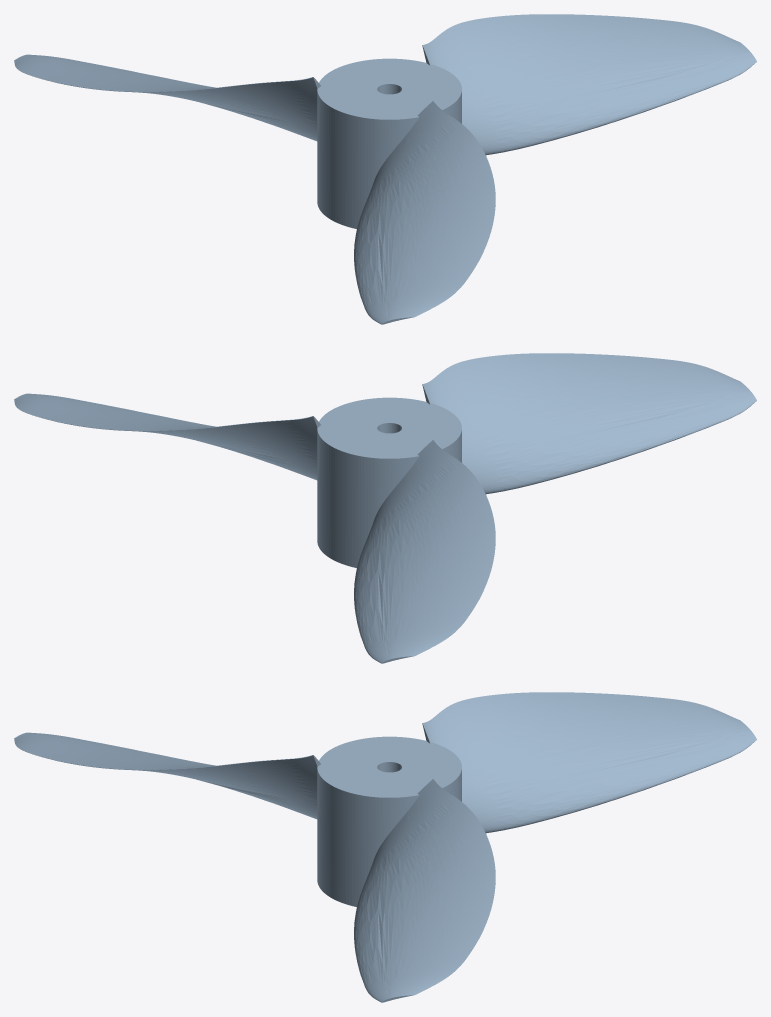
3 renders of one model, top to bottom at view 1: azimuth 30°, elevation 25°; view 2: azimuth 150°, elevation 25°; view 3: azimuth 270°, elevation 25°, orthographic.
Parts seen in each view (by area): view 1: 8in-3b.stl; view 2: 8in-3b.stl; view 3: 8in-3b.stl.
Boxes of the visible parts, x1,y1,x2,y2 form: 8in-3b.stl: (14,14,756,324); 8in-3b.stl: (14,353,756,663); 8in-3b.stl: (14,692,756,1002).
Bounding box in the file's own units: 0.1623 × 0.0341 × 0.18.
